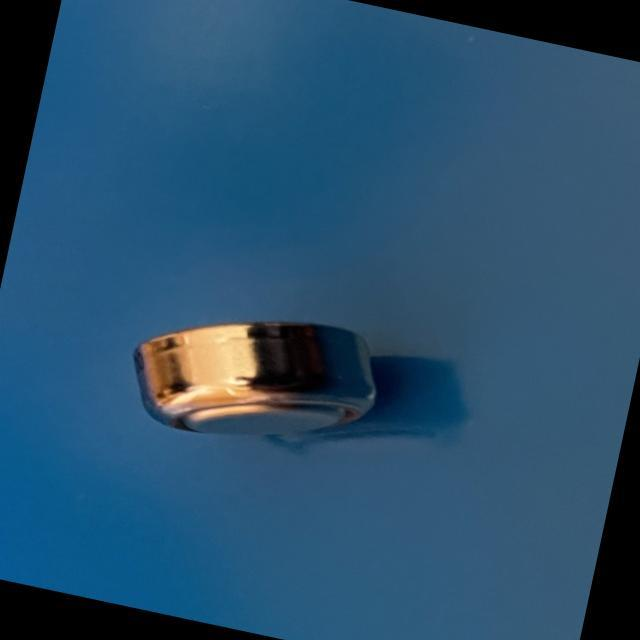COIN: (117, 280, 393, 467)
